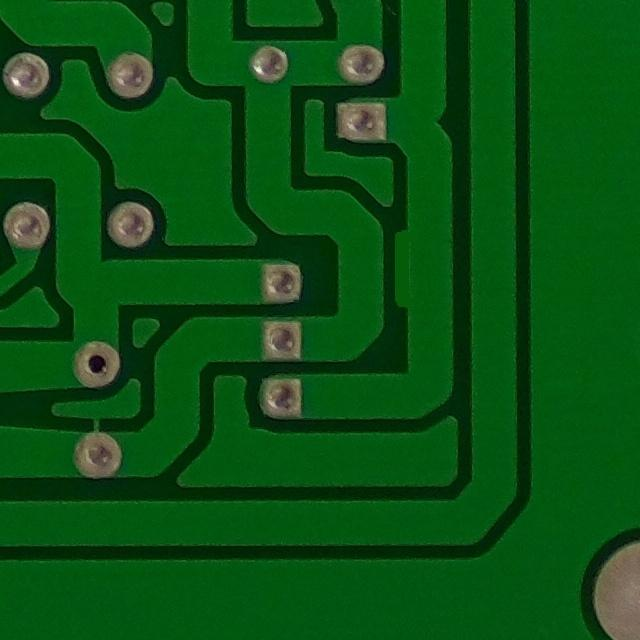spur: (377, 217, 433, 322)
